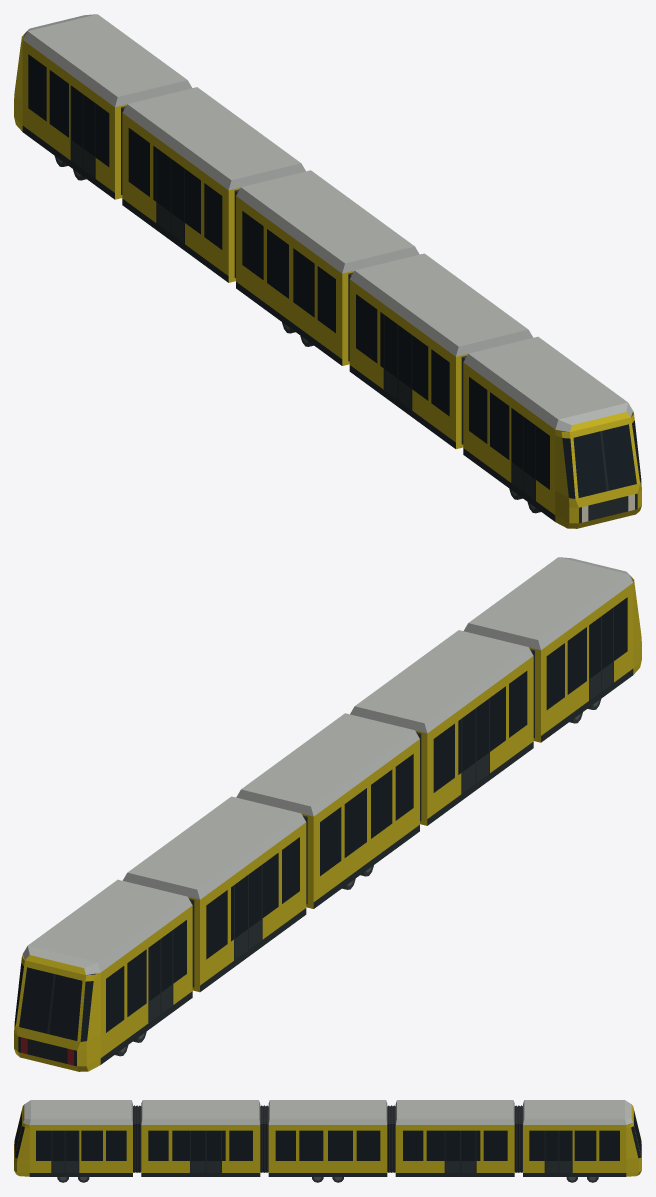
File: bvg_tram_lowpoly_v1.glb
The picture shows the model from 3 angles, top to bottom: view 1: azimuth 30°, elevation 25°; view 2: azimuth 150°, elevation 25°; view 3: azimuth 270°, elevation 25°; orthographic projection. The views are drawn at different scales.
Visible parts, largest first — view 1: bvg_tram_lowpoly_v1; view 2: bvg_tram_lowpoly_v1; view 3: bvg_tram_lowpoly_v1.
Boxes of the visible parts, x1,y1,x2,y2 form: bvg_tram_lowpoly_v1: (14,14,641,528); bvg_tram_lowpoly_v1: (14,557,641,1071); bvg_tram_lowpoly_v1: (14,1100,641,1182).
Size of the model in its own units: 2.4 by 3.4 by 30.
